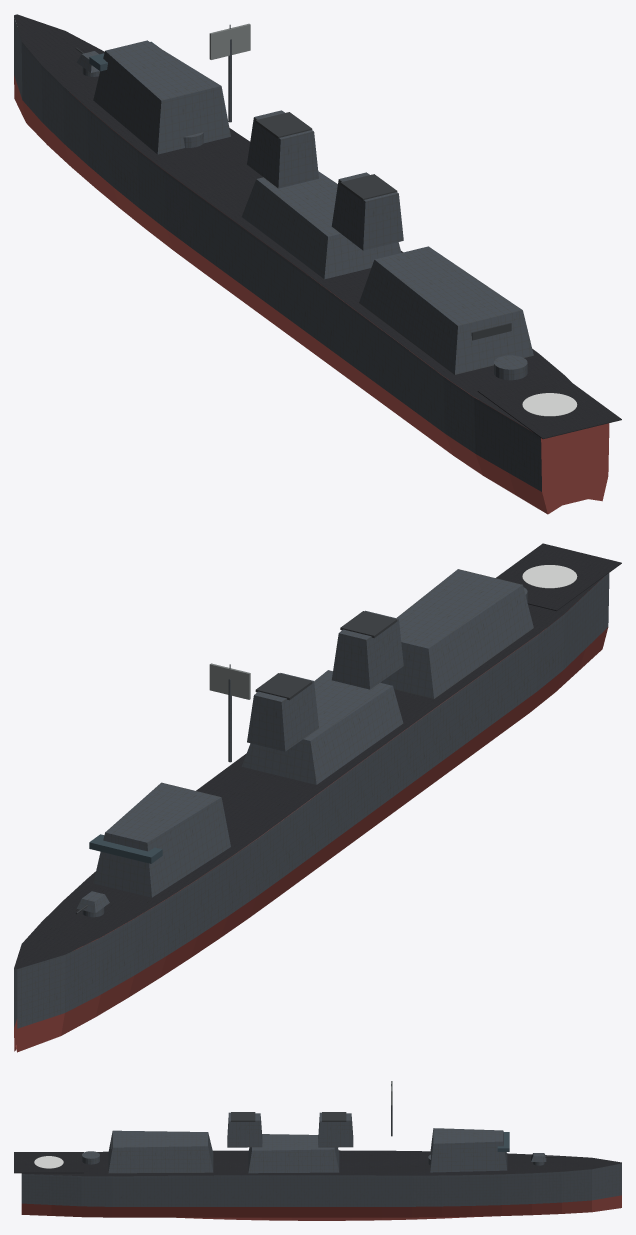
The model's file is type_kidd.glb.
3 renders of one model, top to bottom at view 1: azimuth 30°, elevation 25°; view 2: azimuth 150°, elevation 25°; view 3: azimuth 270°, elevation 25°, orthographic. The views are drawn at different scales.
Parts seen in each view (by area): view 1: kidd_hull, kidd_hangar, kidd_bridge, kidd_mid, kidd_flightdeck, kidd_funnel1, kidd_funnel0, kidd_sps48, kidd_helo, kidd_funnel_top0, kidd_funnel_top1, kidd_mk26_a; view 2: kidd_hull, kidd_hangar, kidd_bridge, kidd_mid, kidd_flightdeck, kidd_funnel1, kidd_funnel0, kidd_sps48, kidd_helo, kidd_win, kidd_funnel_top0, kidd_funnel_top1; view 3: kidd_hull, kidd_hangar, kidd_bridge, kidd_mid, kidd_flightdeck, kidd_funnel1, kidd_funnel0, kidd_helo, kidd_funnel_top0, kidd_funnel_top1, kidd_mk26_a.
Boxes of the visible parts, x1,y1,x2,y2 form: kidd_hull: (14,14,609,514); kidd_hangar: (359,246,533,374); kidd_bridge: (93,40,230,154); kidd_mid: (241,171,401,279); kidd_flightdeck: (477,371,621,439); kidd_funnel1: (331,172,403,250); kidd_funnel0: (247,110,318,188); kidd_sps48: (209,23,250,59); kidd_helo: (522,393,577,416); kidd_funnel_top0: (255,112,312,139); kidd_funnel_top1: (340,174,397,201); kidd_mk26_a: (494,355,527,380); kidd_hull: (14,573,609,1052); kidd_hangar: (380,569,533,698); kidd_bridge: (93,782,230,897); kidd_mid: (242,670,403,784); kidd_flightdeck: (496,543,621,611); kidd_funnel1: (331,610,403,689); kidd_funnel0: (247,673,318,751); kidd_sps48: (209,663,250,699); kidd_helo: (522,565,577,588); kidd_win: (89,834,162,863); kidd_funnel_top0: (255,673,312,700); kidd_funnel_top1: (340,611,397,638); kidd_hull: (21,1150,621,1220); kidd_hangar: (108,1130,213,1173); kidd_bridge: (430,1128,507,1172); kidd_mid: (248,1134,339,1173); kidd_flightdeck: (14,1152,83,1173); kidd_funnel1: (227,1112,262,1147); kidd_funnel0: (318,1112,353,1147); kidd_helo: (34,1156,63,1168); kidd_funnel_top0: (322,1112,346,1121); kidd_funnel_top1: (231,1112,255,1121); kidd_mk26_a: (82,1151,99,1164).
Bounding box in the file's own units: 16.8 × 41.7 × 174.
Materials: 7 (2 with a texture image).
